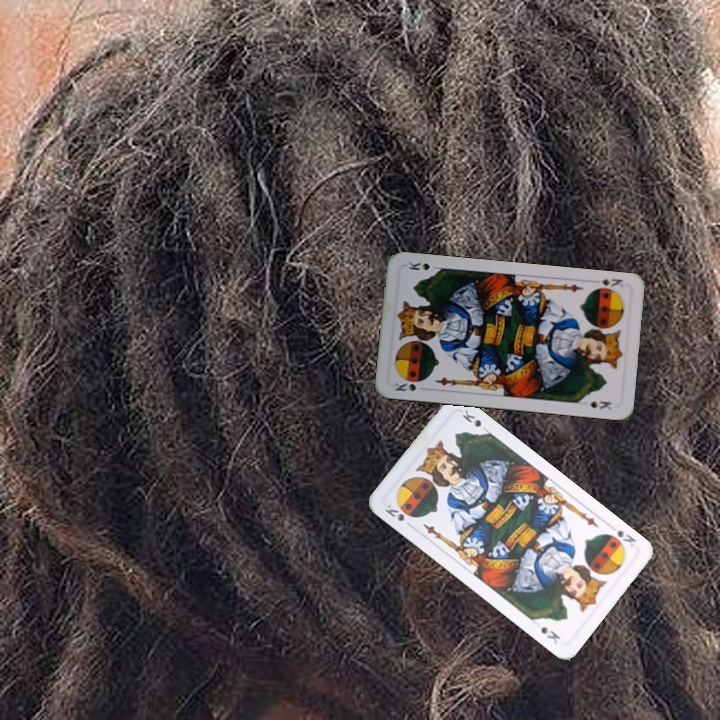SK: (381, 500, 416, 530), (613, 526, 639, 549), (391, 376, 424, 394), (597, 274, 626, 290)
